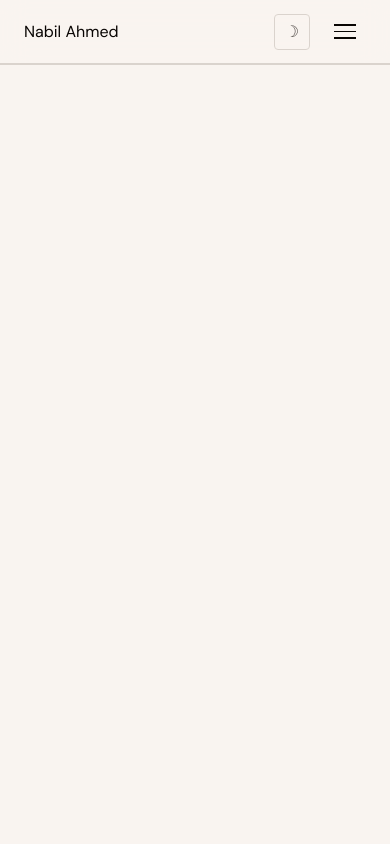
Test: Nav › opens the mobile drawer when hamburger is clicked
The image size is (390, 844).
Click the button named "open menu": click(350, 32) [334,16,366,48]
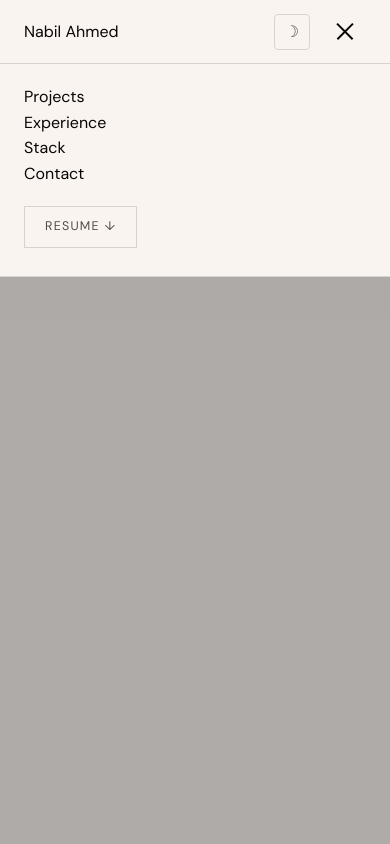
Result: the button named "open menu" is expanded at [334,16,366,48]
